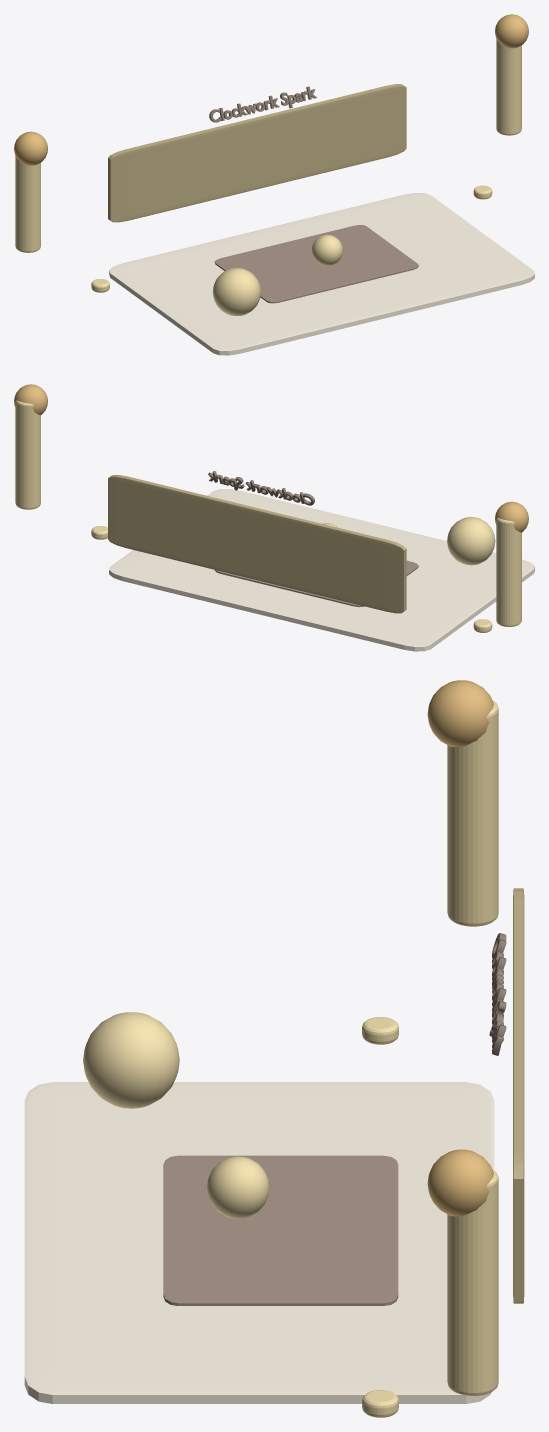
File: 15_frame_events.glb
3 views of the same model, one above another, from view 1: azimuth 30°, elevation 25°; view 2: azimuth 150°, elevation 25°; view 3: azimuth 270°, elevation 25° (orthographic). The views are drawn at different scales.
Visible parts, largest first — view 1: PaperFloor-col, BackCard, StageMat, PaperLantern, PaperLantern.001, FpeRushPlayer, TitleLabel, LanternGlow, LanternGlow.001, ClockworkSpark; view 2: BackCard, PaperFloor-col, PaperLantern.001, PaperLantern, FpeRushPlayer, TitleLabel, LanternGlow, LanternGlow.001, StageMat; view 3: PaperFloor-col, StageMat, PaperLantern, PaperLantern.001, FpeRushPlayer, BackCard, LanternGlow.001, LanternGlow, ClockworkSpark, TitleLabel, CardConfetti, CardConfetti.001.
Part boxes in pixels (box(x1,y1,x2,y2)): PaperFloor-col: box(109, 193, 534, 355); BackCard: box(108, 84, 406, 222); StageMat: box(214, 225, 418, 303); PaperLantern: box(15, 155, 40, 252); PaperLantern.001: box(496, 38, 521, 135); FpeRushPlayer: box(212, 268, 260, 315); TitleLabel: box(209, 86, 317, 122); LanternGlow: box(14, 131, 47, 165); LanternGlow.001: box(495, 14, 528, 48); ClockworkSpark: box(311, 234, 342, 265); BackCard: box(108, 475, 406, 613); PaperFloor-col: box(109, 489, 534, 651); PaperLantern.001: box(15, 400, 40, 509); PaperLantern: box(496, 518, 521, 626); FpeRushPlayer: box(447, 517, 495, 565); TitleLabel: box(208, 471, 314, 505); LanternGlow: box(495, 501, 528, 532); LanternGlow.001: box(14, 384, 47, 415); StageMat: box(214, 560, 418, 607); PaperFloor-col: box(24, 1082, 494, 1403); StageMat: box(163, 1155, 398, 1305); PaperLantern: box(447, 700, 498, 926); PaperLantern.001: box(447, 1169, 498, 1395); FpeRushPlayer: box(83, 1012, 179, 1108); BackCard: box(513, 888, 524, 1303); LanternGlow.001: box(427, 1149, 493, 1216); LanternGlow: box(427, 680, 493, 747); ClockworkSpark: box(207, 1156, 269, 1218); TitleLabel: box(489, 933, 506, 1055); CardConfetti: box(362, 1017, 398, 1044); CardConfetti.001: box(362, 1390, 398, 1417).
Size of the model in its own units: 8.28 by 2.56 by 3.51.
